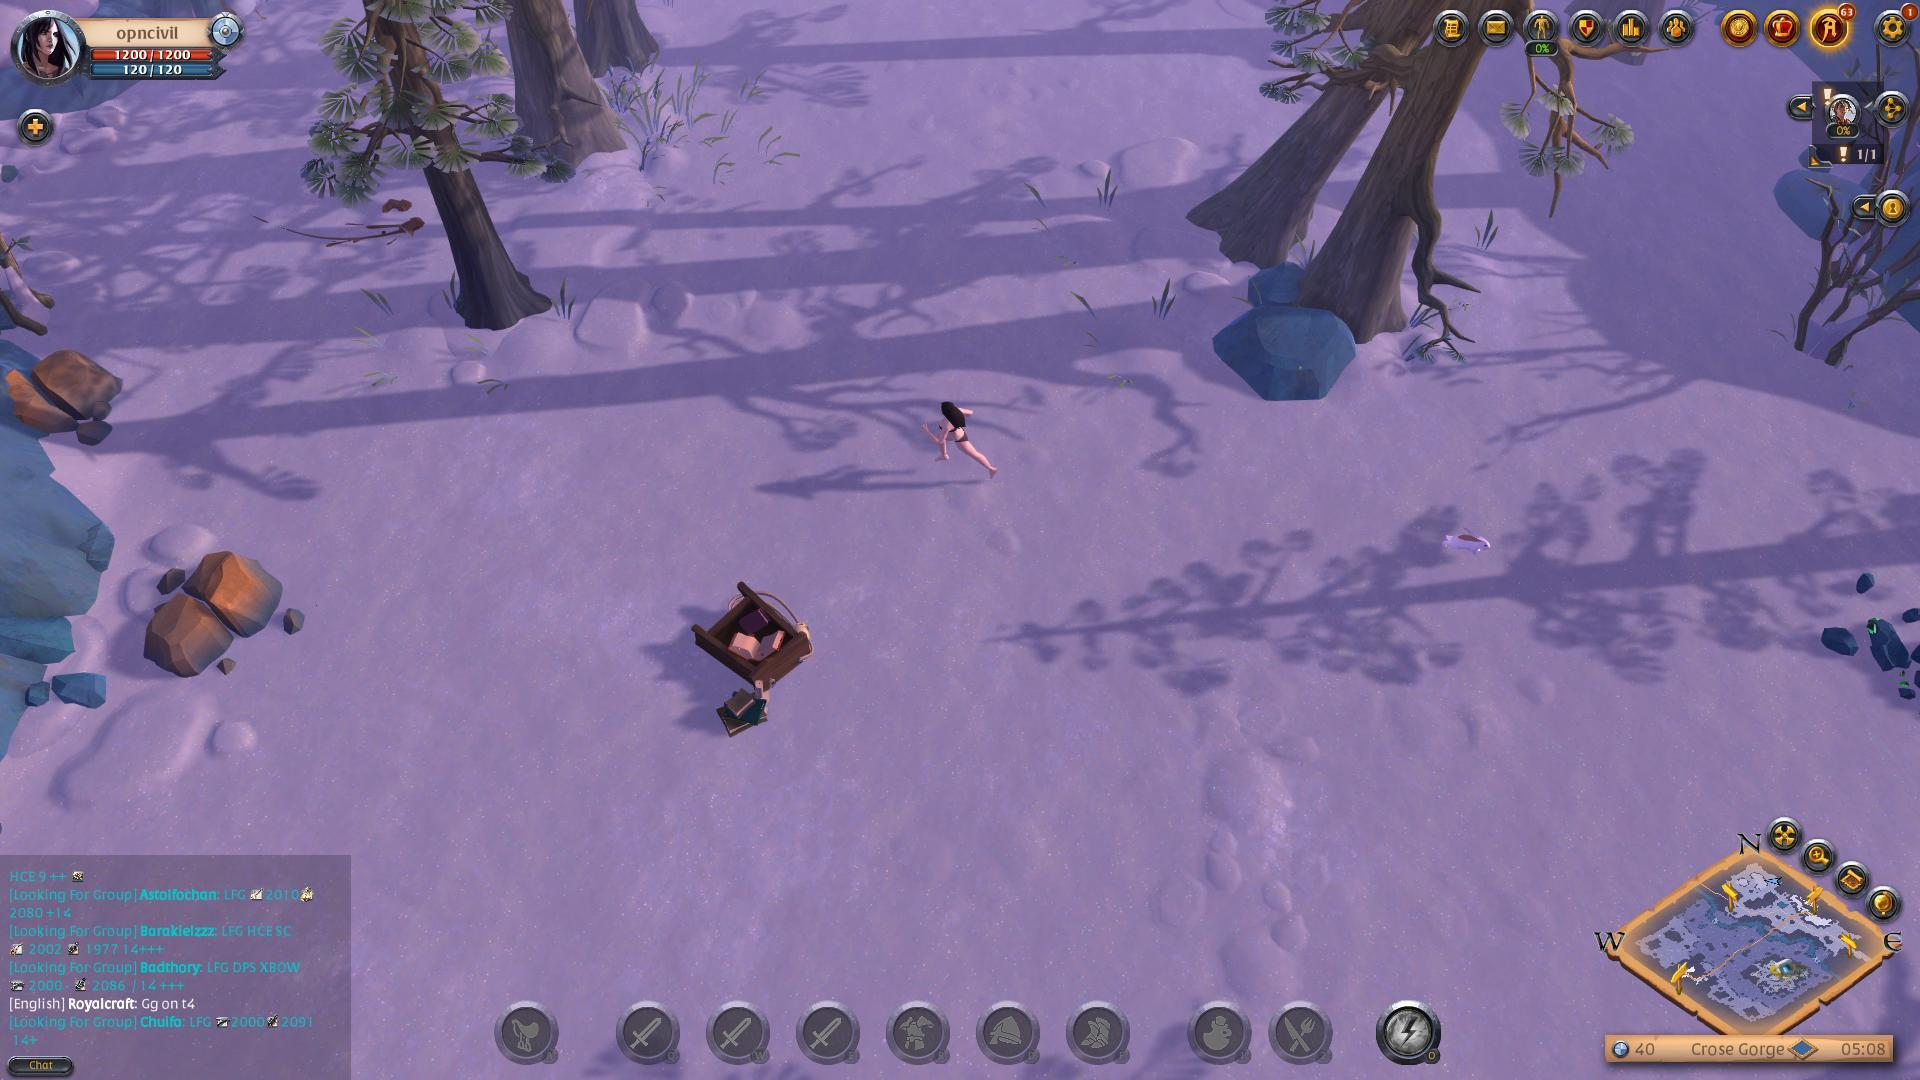limestone: (131, 534, 309, 696), (0, 338, 142, 446)
